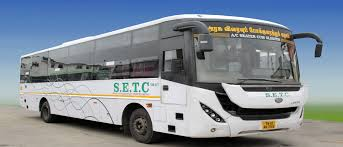bus: (18, 14, 325, 143)
